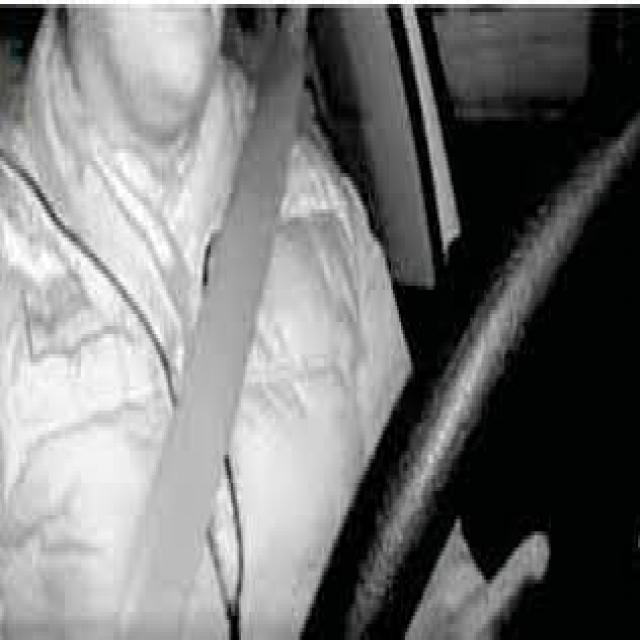seatbelt: (119, 8, 314, 640)
